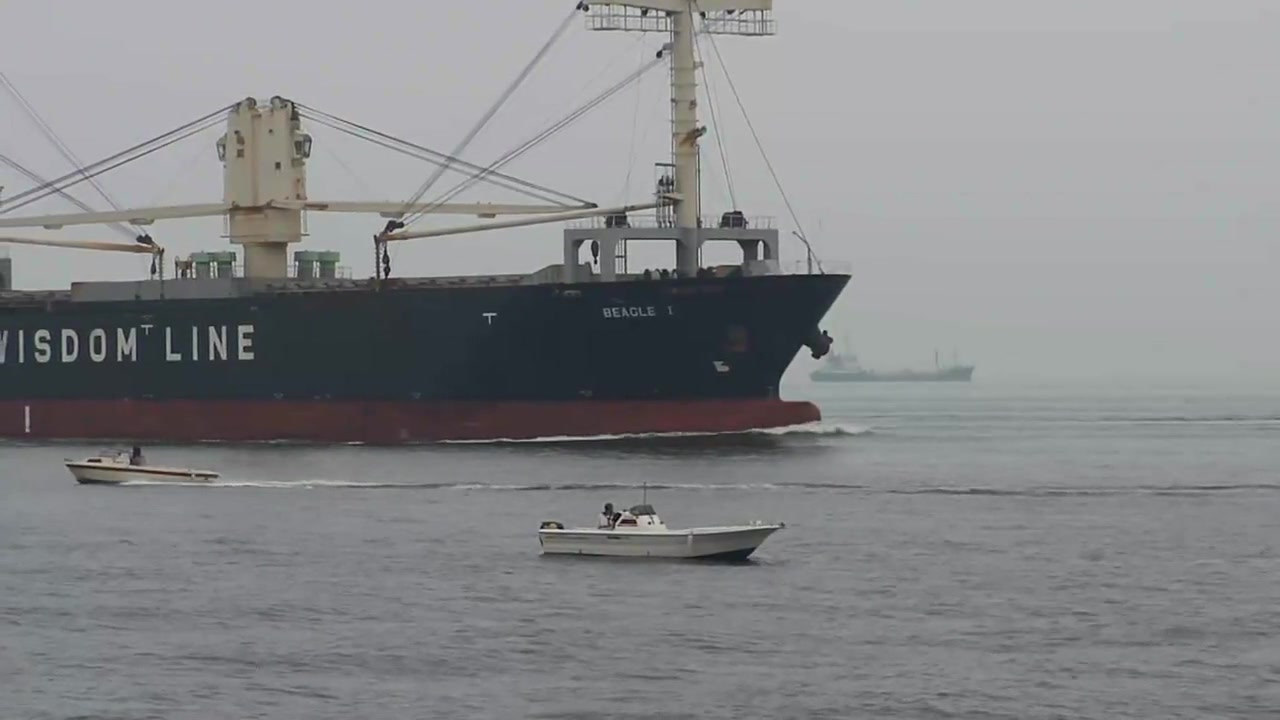boat: (1, 1, 862, 449)
